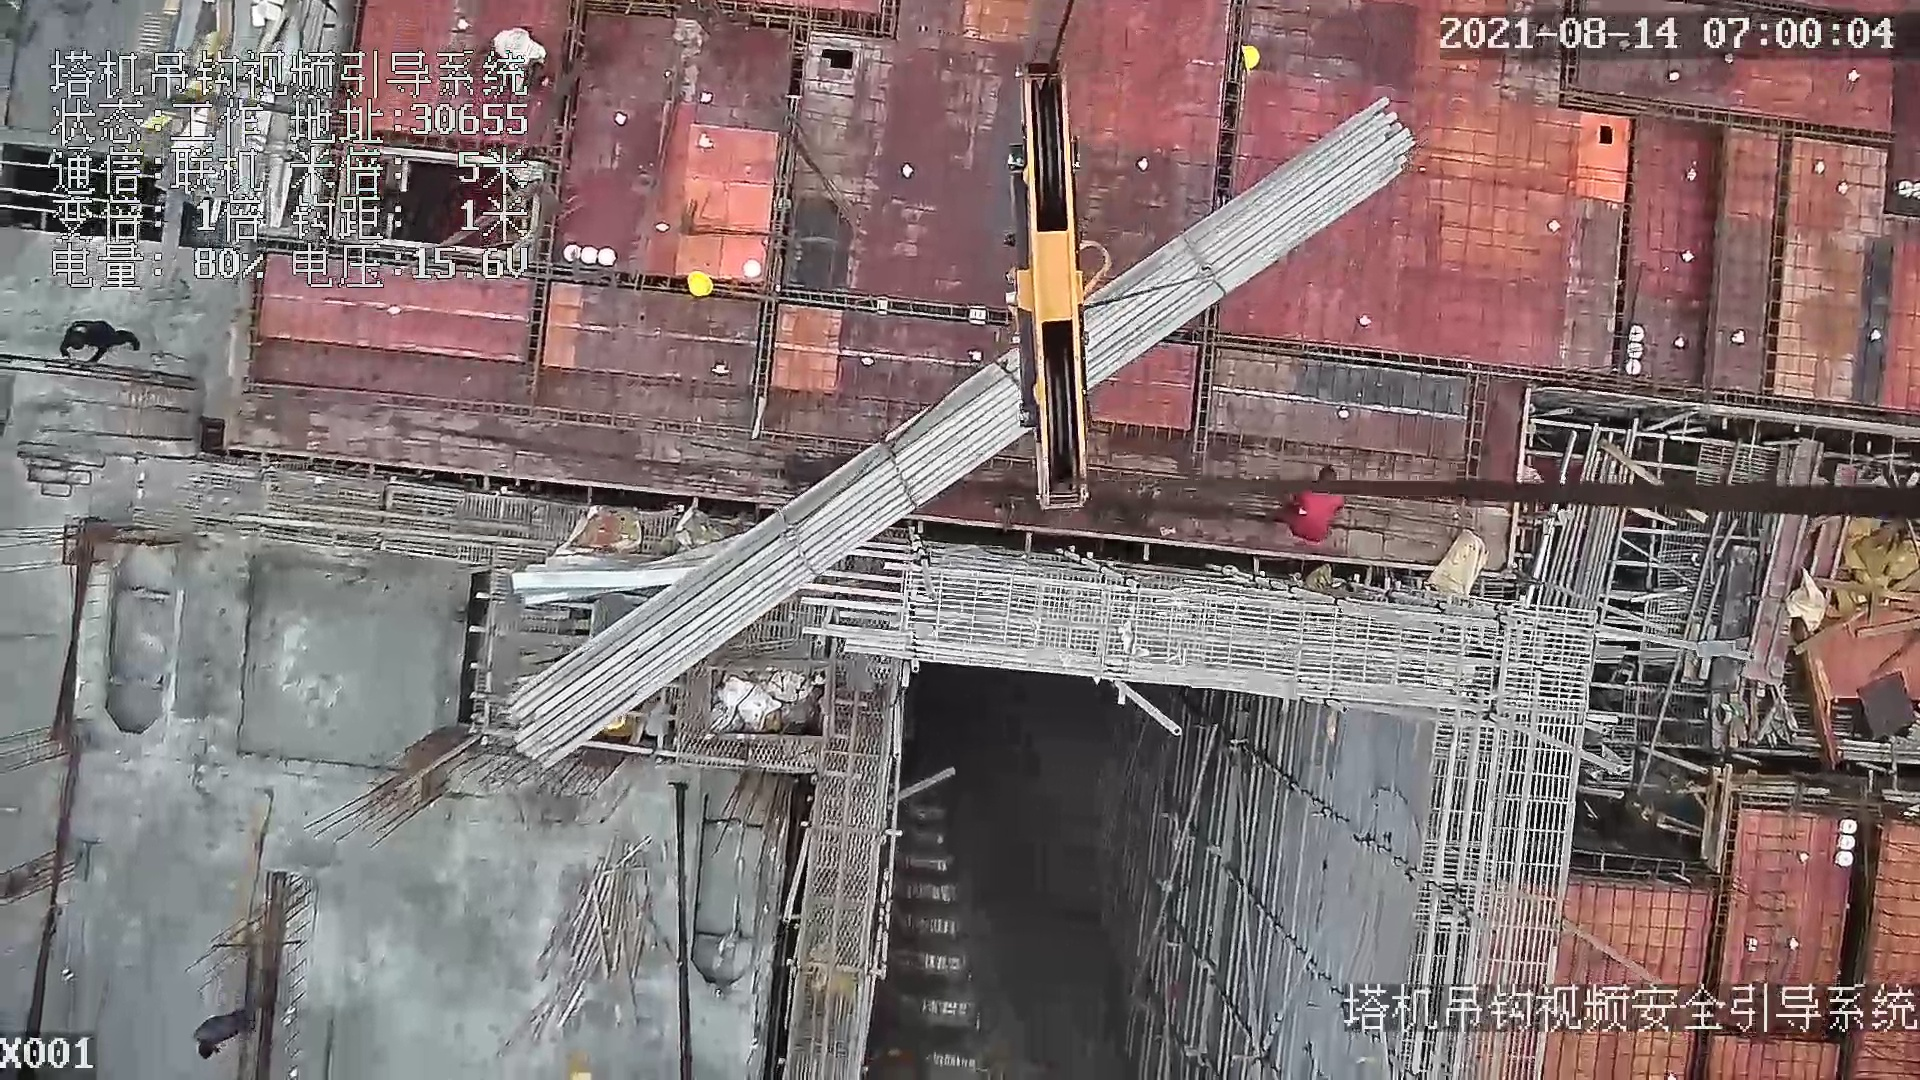helmet: (686, 270, 713, 298), (1240, 44, 1260, 71)
hook: (997, 56, 1115, 522)
person: (1286, 462, 1344, 536), (56, 320, 141, 363), (192, 1011, 256, 1059)
rebar: (506, 96, 1413, 764)
